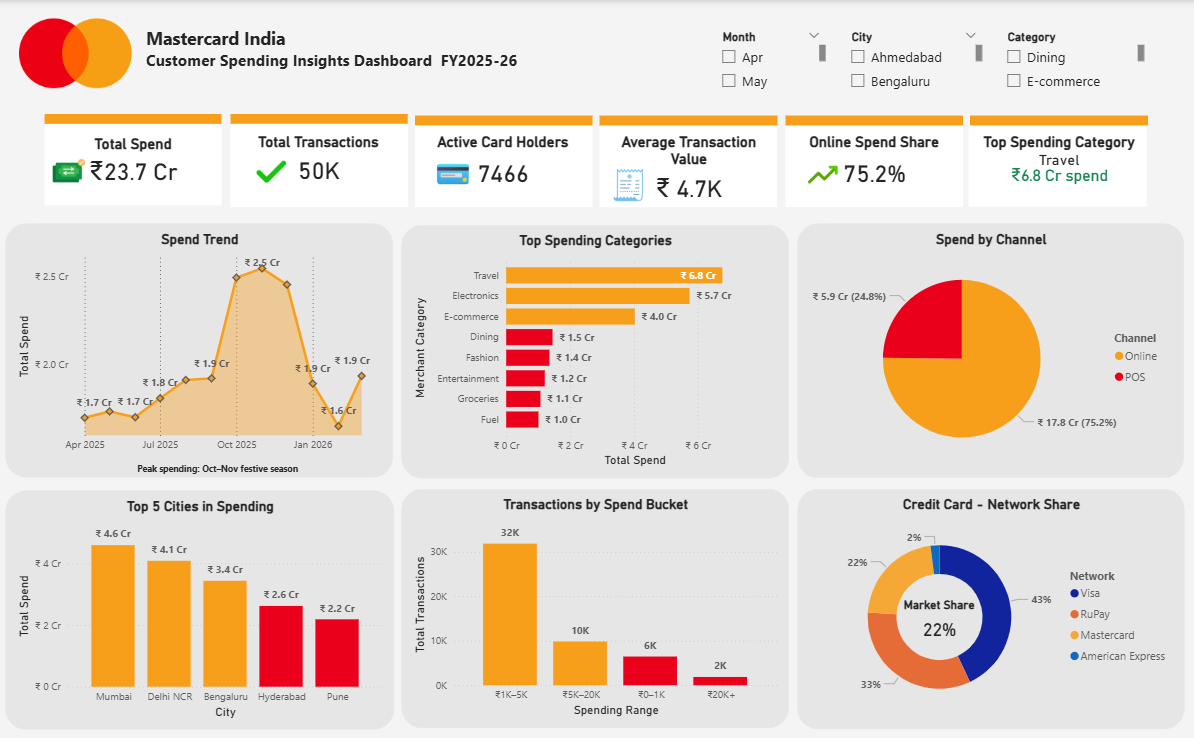

Layout of this report page (visuals, bound fields, positions):
{"tool":"powerbi","page":{"name":"Page 1","canvas":[1450,900],"ordinal":0},"visuals":[{"type":"shape","box":[56,139,215,111],"z":0},{"type":"group","id":"g1","title":"Group 1","box":[64.2,139.3,1330.4,111.5],"z":1000},{"type":"shape","box":[1178.5,139.3,216.1,110.7],"z":1000,"group":"g1"},{"type":"image","box":[25.5,16.4,136.5,96.4],"z":2000},{"type":"shape","box":[730.7,139.6,215.4,111.2],"z":3000,"group":"g1"},{"type":"card","title":"Active Card Holders","fields":{"Values":["Transactions.Active Mastercard Cardholders"]},"box":[520,161.7,184.2,73.3],"z":3000},{"type":"textbox","box":[174.1,26.3,617.3,93.1],"z":4000},{"type":"shape","box":[954.9,139.3,215.7,111.1],"z":4000,"group":"g1"},{"type":"shape","box":[281.8,139.6,215.4,111.2],"z":5000,"group":"g1"},{"type":"card","title":"Total Spend","fields":{"Values":["Transactions.Total Spend (Cr Label)"]},"box":[68.5,163.5,189.5,64.5],"z":5000},{"type":"card","title":"Total Transactions","fields":{"Values":["Transactions.Total Mastercard Transactions"]},"box":[280,162.4,217.1,65.3],"z":6000},{"type":"card","title":"Average Transaction Value","fields":{"Values":["Transactions.Average Transaction Value"]},"box":[730,161.8,216.8,88.2],"z":7000},{"type":"image","box":[740.7,203,50,41.7],"z":7000,"group":"g1"},{"type":"shape","box":[506.2,139.6,215.4,111.2],"z":8000,"group":"g1"},{"type":"card","title":"Online Spend Share","fields":{"Values":["Transactions.Online Spend Share %"]},"box":[954.5,162.7,215.5,72.7],"z":8000},{"type":"card","fields":{"Values":["Transactions.Top Category"]},"box":[1178.2,161.8,215.5,64.5],"z":9000},{"type":"card","title":"Top Spending Category","fields":{"Values":["Transactions.Top Category Spend"]},"box":[1179.1,162.7,216.4,80.9],"z":10000},{"type":"areaChart","title":"Spend Trend","fields":{"Category":["Calendar.Month_Year.Variation.Date Hierarchy.Year","Calendar.Month_Year.Variation.Date Hierarchy.Month"],"Y":["Transactions.Monthly Spend (Cr)"]},"box":[10,270.8,470,308],"z":10000,"group":"g2"},{"type":"image","box":[524.2,181.8,55.8,45],"z":11000,"group":"g1"},{"type":"clusteredBarChart","title":"Top Spending Categories","fields":{"Category":["Transactions.Merchant_Category"],"Y":["Transactions.Spend by Category (Cr)"]},"box":[490,272.2,470,307.1],"z":11000},{"type":"clusteredColumnChart","title":"Top 5 Cities in Spending","fields":{"Category":["Transactions.City"],"Y":["Transactions.Spend by City (Cr)"]},"box":[8.6,594.3,471.4,290],"z":12000},{"type":"image","box":[64.2,186.1,44.5,39.5],"z":13000,"group":"g1"},{"type":"pieChart","title":"Spend by Channel","fields":{"Category":["Transactions.Channel"],"Y":["Transactions.Channel Spend (Cr)"]},"box":[970,270.8,468.6,308.6],"z":13000},{"type":"columnChart","title":"Transactions by Spend Bucket","fields":{"Category":["Transactions.Spend_Bucket"],"Y":["Transactions.Total Mastercard Transactions"]},"box":[490,594,470,290],"z":14000},{"type":"donutChart","title":"Credit Card - Network Share","fields":{"Category":["Network Share.Network"],"Y":["Sum(Network Share.Share_Percent)"]},"box":[969.8,593.1,469.4,291.1],"z":15000},{"type":"card","title":"Market Share","fields":{"Values":["Sum(Network Share.Share_Percent)"]},"box":[1089.8,726,103.7,58.2],"z":16000},{"type":"slicer","fields":{"Values":["Calendar.Month_Name"]},"box":[865.5,31.8,142.7,82.7],"z":17000},{"type":"slicer","fields":{"Values":["Transactions.Merchant_Category"]},"box":[1210.9,31.8,183.6,82.7],"z":18000},{"type":"slicer","fields":{"Values":["Transactions.City"]},"box":[1021.8,31.8,176.4,82.7],"z":19000},{"type":"textbox","box":[116.7,553.5,300,34.2],"z":19001,"group":"g2"},{"type":"group","id":"g2","title":"Group 2","box":[10,270.8,470,316.8],"z":20000},{"type":"image","box":[304.4,188.9,55.6,37.8],"z":21000},{"type":"image","box":[978.2,180,43.6,63.6],"z":22000},{"type":"shape","box":[56.1,138.3,214.8,12],"z":23000},{"type":"shape","box":[281.9,138.8,215,11.9],"z":24000},{"type":"shape","box":[1178.2,139.4,215.9,12],"z":25000},{"type":"shape","box":[506.2,139.4,215.6,11.9],"z":26000},{"type":"shape","box":[730,139.5,215.9,12],"z":27000},{"type":"shape","box":[955,139.6,215.4,12.1],"z":28000}]}

Visuals, with their boxes in screenshot pixels (x1, y1, x2, y2), scaled from the page's 1450x900 canvas onto the 1194x738 screenshot:
shape: <region>46, 114, 223, 205</region>
"Group 1" group: <region>53, 114, 1148, 206</region>
shape: <region>970, 114, 1148, 205</region>
image: <region>21, 13, 133, 92</region>
shape: <region>602, 114, 779, 206</region>
"Active Card Holders" card: <region>428, 133, 580, 193</region>
textbox: <region>143, 22, 652, 98</region>
shape: <region>786, 114, 964, 205</region>
shape: <region>232, 114, 409, 206</region>
"Total Spend" card: <region>56, 134, 212, 187</region>
"Total Transactions" card: <region>231, 133, 409, 187</region>
"Average Transaction Value" card: <region>601, 133, 780, 205</region>
image: <region>610, 166, 651, 201</region>
shape: <region>417, 114, 594, 206</region>
"Online Spend Share" card: <region>786, 133, 963, 193</region>
card - Transactions.Top Category: <region>970, 133, 1148, 186</region>
"Top Spending Category" card: <region>971, 133, 1149, 200</region>
"Spend Trend" areaChart: <region>8, 222, 395, 475</region>
image: <region>432, 149, 478, 186</region>
"Top Spending Categories" clusteredBarChart: <region>403, 223, 791, 475</region>
"Top 5 Cities in Spending" clusteredColumnChart: <region>7, 487, 395, 725</region>
image: <region>53, 153, 90, 185</region>
"Spend by Channel" pieChart: <region>799, 222, 1185, 475</region>
"Transactions by Spend Bucket" columnChart: <region>403, 487, 791, 725</region>
"Credit Card - Network Share" donutChart: <region>799, 486, 1185, 725</region>
"Market Share" card: <region>897, 595, 983, 643</region>
slicer - Calendar.Month_Name: <region>713, 26, 830, 94</region>
slicer - Transactions.Merchant_Category: <region>997, 26, 1148, 94</region>
slicer - Transactions.City: <region>841, 26, 987, 94</region>
textbox: <region>96, 454, 343, 482</region>
"Group 2" group: <region>8, 222, 395, 482</region>
image: <region>251, 155, 296, 186</region>
image: <region>805, 148, 841, 200</region>
shape: <region>46, 113, 223, 123</region>
shape: <region>232, 114, 409, 124</region>
shape: <region>970, 114, 1148, 124</region>
shape: <region>417, 114, 594, 124</region>
shape: <region>601, 114, 779, 124</region>
shape: <region>786, 114, 964, 124</region>
